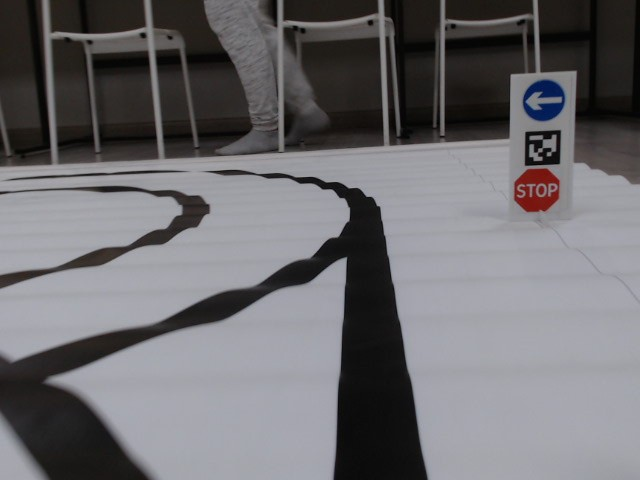Stop: (512, 169, 560, 213)
